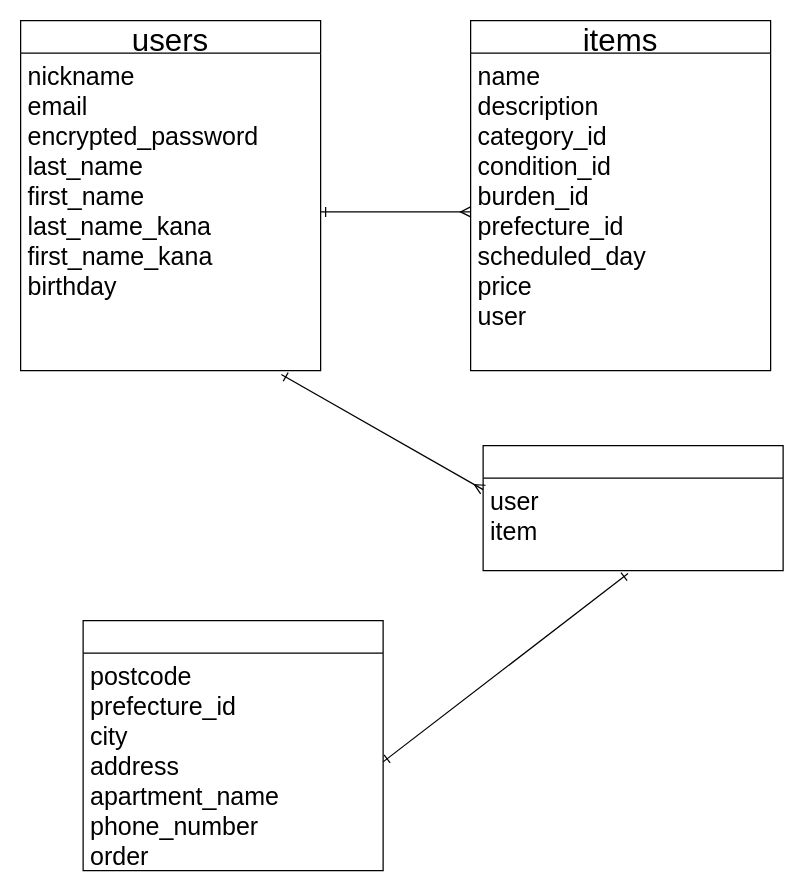
The diagram is 804 pixels wide and 891 high, and some of its shapes have lost their labels. The shapes that lost their labels are listed below. From the top down, each one's box as (x1, y1, x2, y2) in pixels, then its label:
(482, 444, 783, 571): orders
(82, 619, 383, 871): buyers
